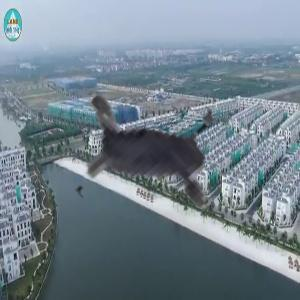drone: (28, 33, 278, 283)
